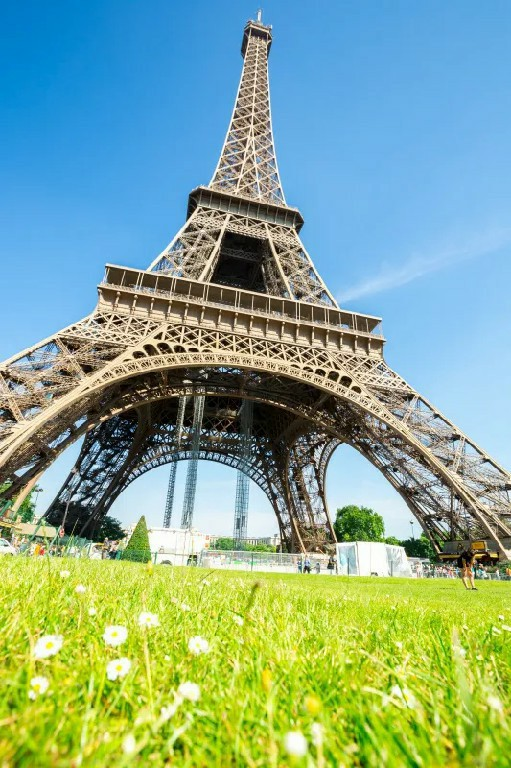Eiffel: (1, 9, 511, 581)
